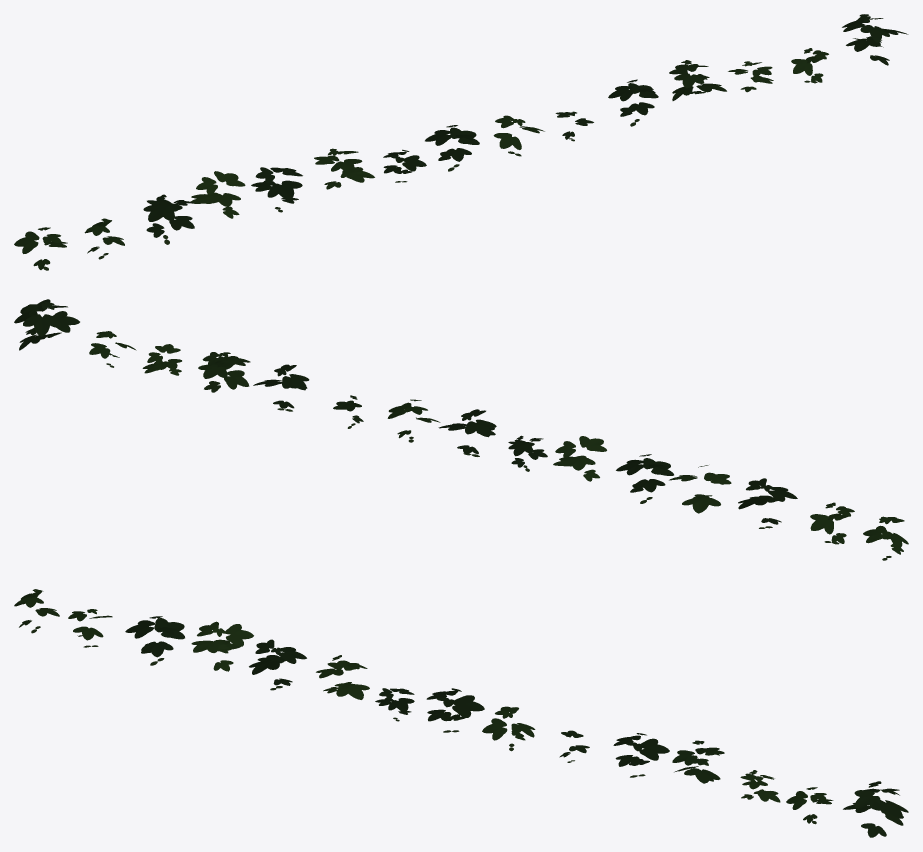
File: ROW_02_SEG4_foliage.dae
3 renders of one model, top to bottom at view 1: azimuth 30°, elevation 25°; view 2: azimuth 150°, elevation 25°; view 3: azimuth 330°, elevation 25°, orthographic.
Visible parts, largest first — view 1: ROW_02_SEG4_foliage; view 2: ROW_02_SEG4_foliage; view 3: ROW_02_SEG4_foliage.
Part boxes in pixels (x1,y1,x2,y2): ROW_02_SEG4_foliage: [14, 14, 908, 270]; ROW_02_SEG4_foliage: [14, 299, 908, 560]; ROW_02_SEG4_foliage: [14, 589, 908, 837].
Size of the model in its own units: 4.55 by 0.3201 by 0.2562.
